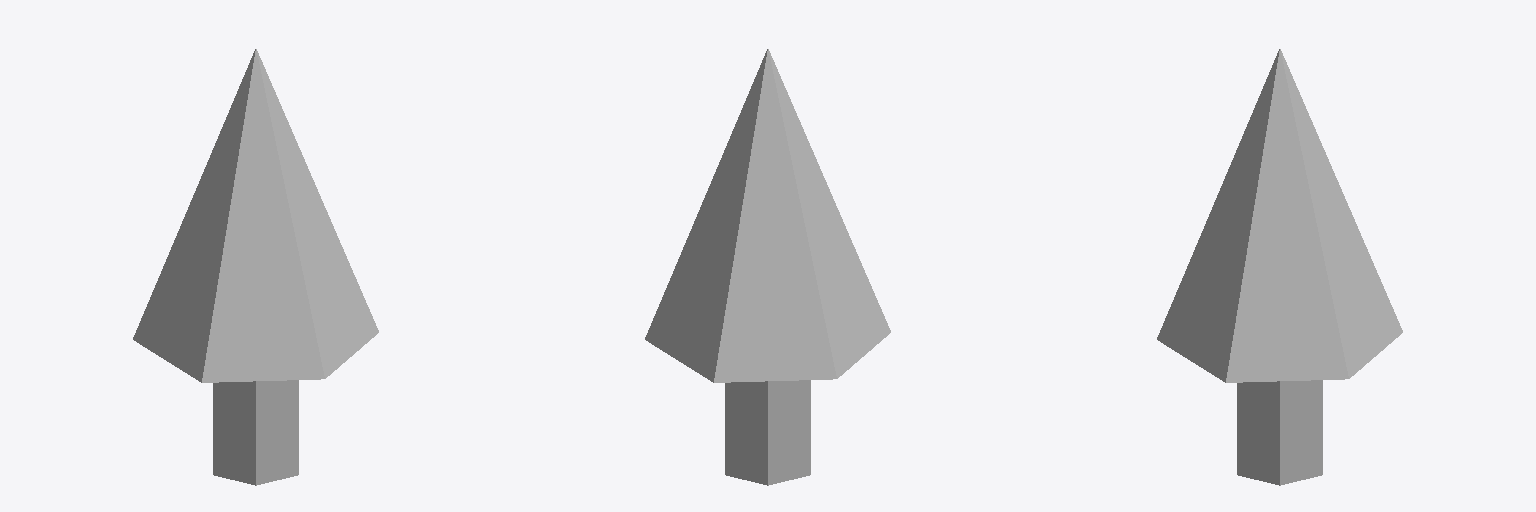
The model's file is TreeOBJ.obj.
3 views of the same model, side by side, from view 1: azimuth 30°, elevation 25°; view 2: azimuth 150°, elevation 25°; view 3: azimuth 270°, elevation 25° (orthographic).
Visible parts, largest first — view 1: polySurface4717; view 2: polySurface4717; view 3: polySurface4717.
Boxes of the visible parts, x1=… form: polySurface4717: x1=133, y1=49, x2=378, y2=485; polySurface4717: x1=645, y1=49, x2=890, y2=485; polySurface4717: x1=1157, y1=49, x2=1402, y2=485.
Size of the model in its own units: 3.54 by 7.34 by 3.93.